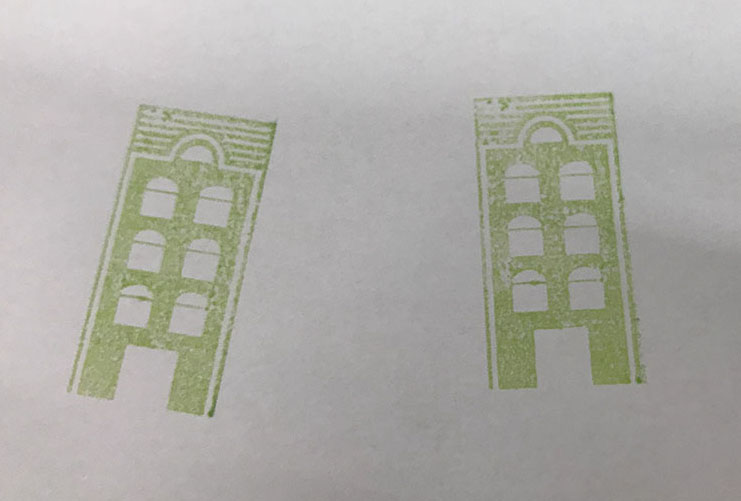build: (42, 90, 287, 437), (450, 81, 660, 400)
